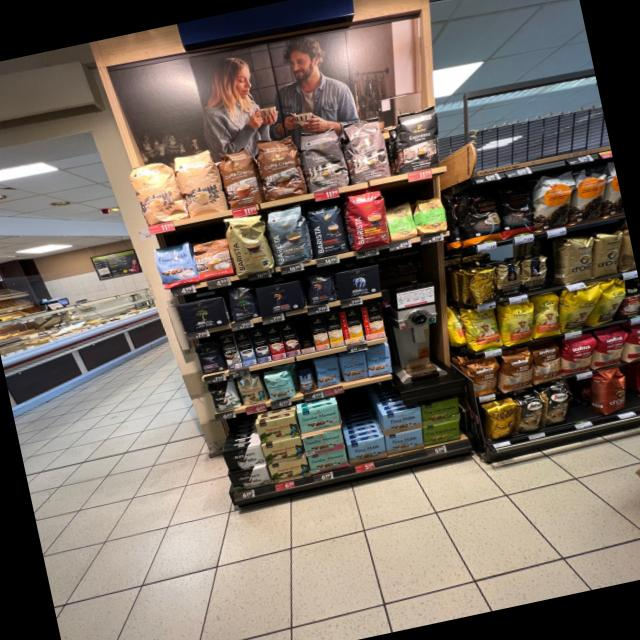AB Gemahlen: (334, 263, 384, 300)
Athiopien Bohne: (412, 193, 451, 236)
Athiopien Gemahlen: (384, 200, 419, 242)
BM Bohne: (224, 284, 259, 324)
BM Gemahlen: (176, 294, 230, 334)
BW Bohne: (206, 378, 242, 414)
BW Gemahlen: (222, 442, 266, 472), (226, 464, 272, 492)
Barista CB: (222, 210, 276, 278)
Barista CC: (264, 202, 314, 267)
Barista Espresso: (305, 200, 351, 260)
Barista Kolumbien: (342, 188, 393, 252)
C Fino Bohne: (193, 338, 226, 376)
CC Mild: (125, 154, 188, 227), (174, 147, 228, 218)
CC Vollmundig: (190, 236, 235, 282)
CC Vollmundig 36 Pads: (254, 132, 308, 202), (216, 144, 264, 210)
Colombia BB Bohne: (234, 372, 266, 407)
Colombia BB Gemahlen: (254, 414, 300, 444), (260, 435, 304, 465), (267, 456, 311, 484)
Empty Shelf: (296, 318, 314, 349)
Espresso Aromatisch: (296, 122, 352, 194), (339, 114, 394, 183)
Espresso Kraftig: (390, 103, 448, 172)
FM 36 Pads: (152, 240, 198, 290)
FM Bohne: (338, 351, 369, 382), (364, 344, 394, 376), (312, 355, 342, 387)
FM Gemahlen: (381, 405, 424, 435), (384, 426, 426, 456), (346, 435, 388, 464)
FM Instant: (294, 366, 318, 394)
Herzhatfe Mundig: (419, 396, 462, 426), (422, 418, 463, 446)
LG Bohne: (304, 268, 339, 306)
LG Gemahlen: (254, 278, 306, 318)
SM Bohne: (262, 369, 296, 403)
SM Gemahlen: (296, 402, 341, 433), (307, 448, 349, 475), (302, 429, 344, 456)
Simo CCMild: (340, 308, 364, 344)
Simo CCMild bigpack: (324, 312, 345, 348)
Simo CCVollmundig: (360, 303, 386, 340)
Simo CCVollmundig bigpack: (308, 315, 330, 351)
Simo Es Brazil: (264, 324, 286, 360)
Simo Es Caramel: (279, 321, 302, 357)
Simo Es Elegant: (220, 334, 242, 370)
Simo Es Kraft: (249, 327, 272, 364)
Simo Es Vanilla: (235, 330, 258, 367)
